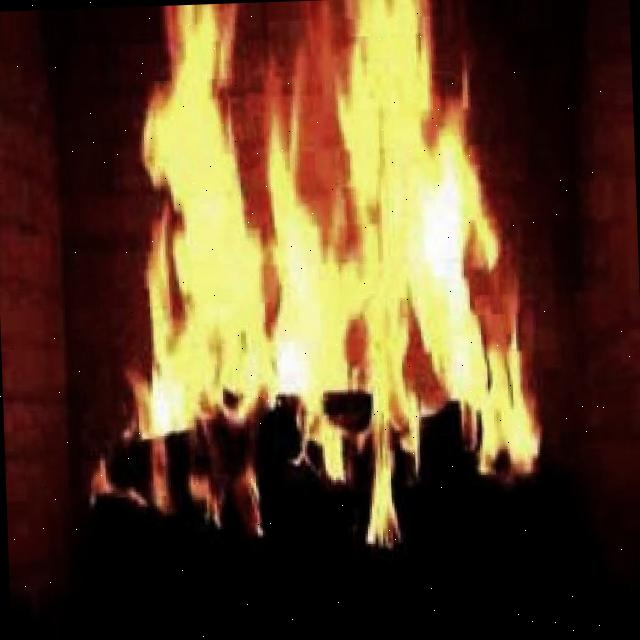fire: (125, 24, 521, 476)
